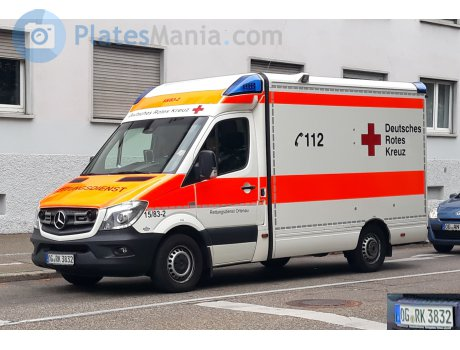License Plates: (45, 250, 77, 263)
